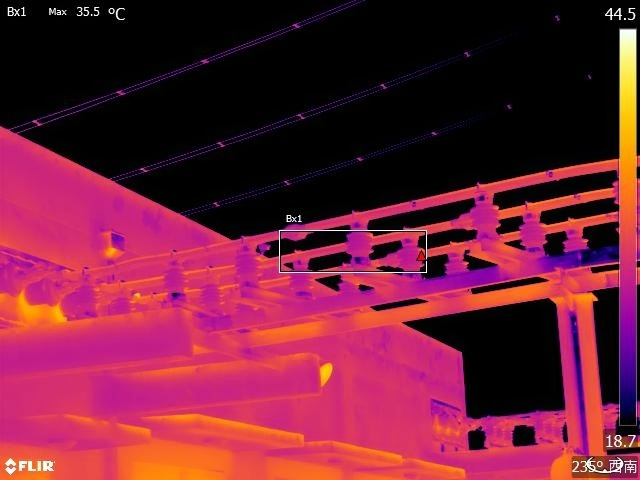post insulator: (468, 195, 506, 244), (232, 237, 262, 290), (159, 252, 189, 305), (517, 208, 549, 255), (338, 224, 377, 260), (196, 271, 227, 314), (286, 254, 316, 296), (394, 241, 428, 278), (560, 224, 590, 257), (337, 269, 367, 299), (105, 285, 134, 315), (442, 261, 473, 278)
